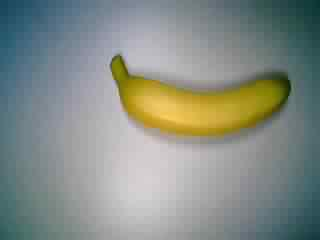banana: (104, 53, 298, 142)
